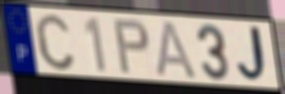1: (84, 16, 107, 74)
3: (196, 22, 230, 82)
A: (155, 19, 199, 81)
C: (33, 11, 78, 73)
J: (235, 24, 272, 85)
P: (112, 18, 151, 76)
